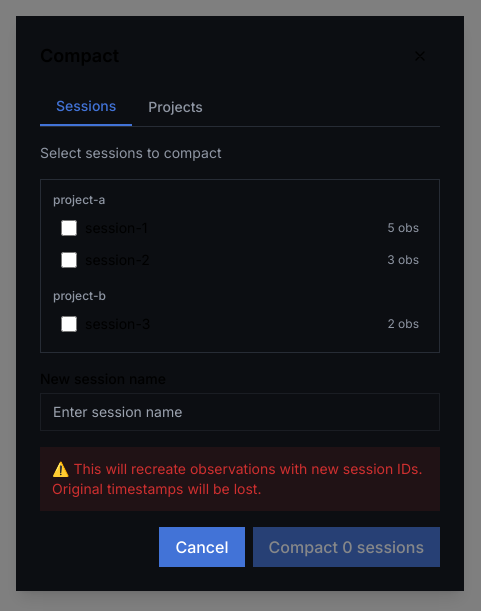
Test: CompactModal › tab rendering › should switch between tabs correctly
Expected: the text "Select sessions to compact" is shown, left=40, top=144, right=222, bottom=160
Click Projects tab
Click the button "Projects" at (176, 106), box left=132, top=88, right=219, bottom=126
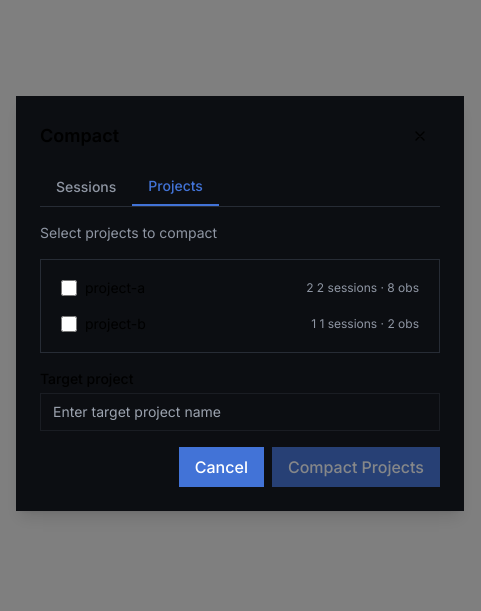
Result: the text "Select projects to compact" is shown at left=40, top=224, right=217, bottom=240
Click back to Sessions tab
Click the button "Sessions" at (86, 186), box left=40, top=168, right=132, bottom=206
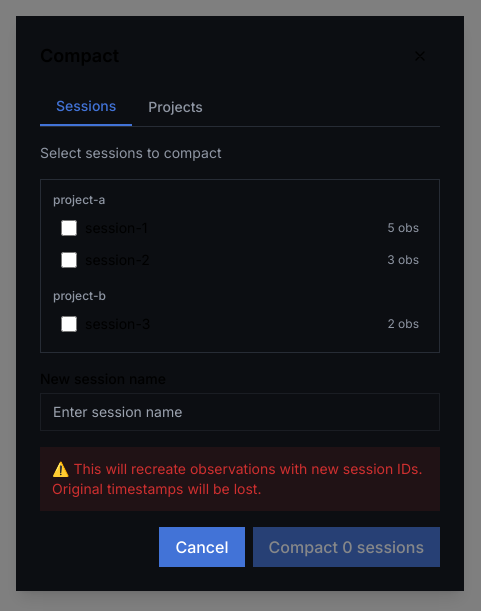
Result: the text "Select sessions to compact" is shown at left=40, top=144, right=222, bottom=160
